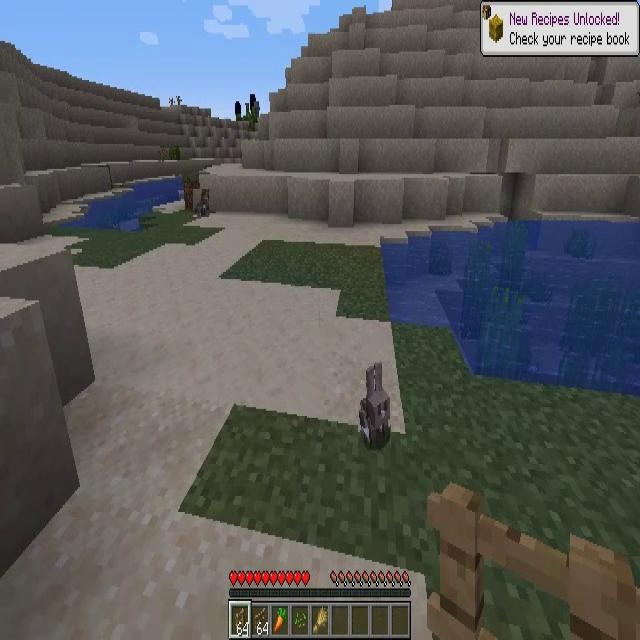rabbit: (358, 361, 391, 448), (193, 189, 209, 217)
